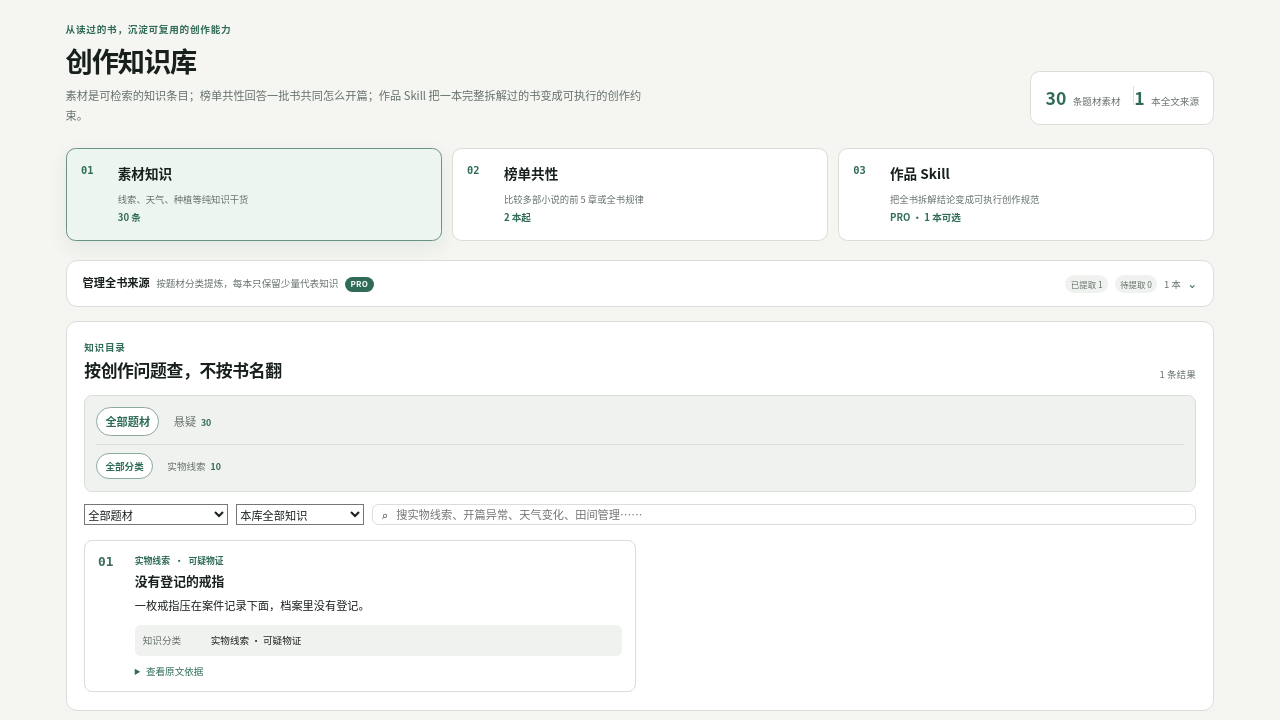
Test: 独立题材知识库 › 从全文来源生成并下载作品 Skill
The width and height of the screenshot is (1280, 720).
Click the button with test id "knowledge-workspace-skill": x=1026, y=194 x1=838 y1=148 x2=1214 y2=241
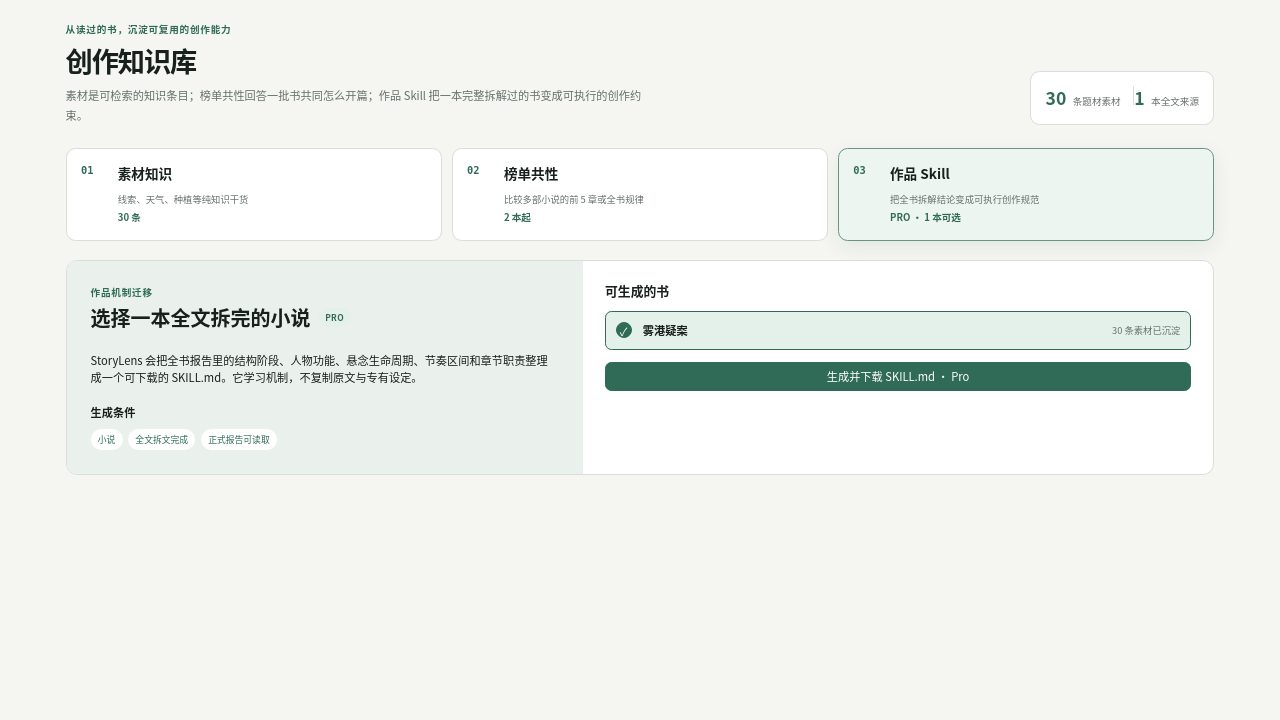
Expected: the element with test id "knowledge-skill-workspace" shows "全文拆完", x1=91 y1=303 x2=311 y2=332
Click the button with test id "generate-book-skill": x=898, y=377 x1=605 y1=362 x2=1191 y2=391
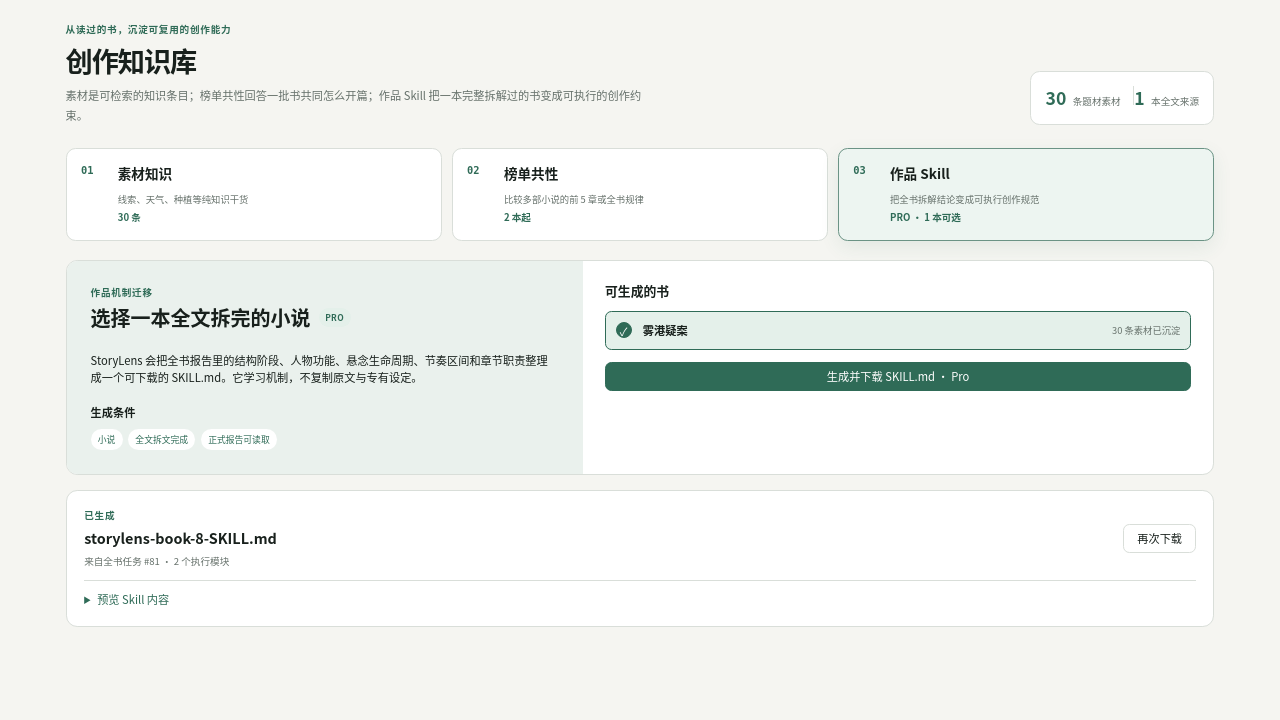
Expected: the element with test id "book-skill-result" shows "storylens-book-8-SKILL.md", x1=84 y1=527 x2=277 y2=548
